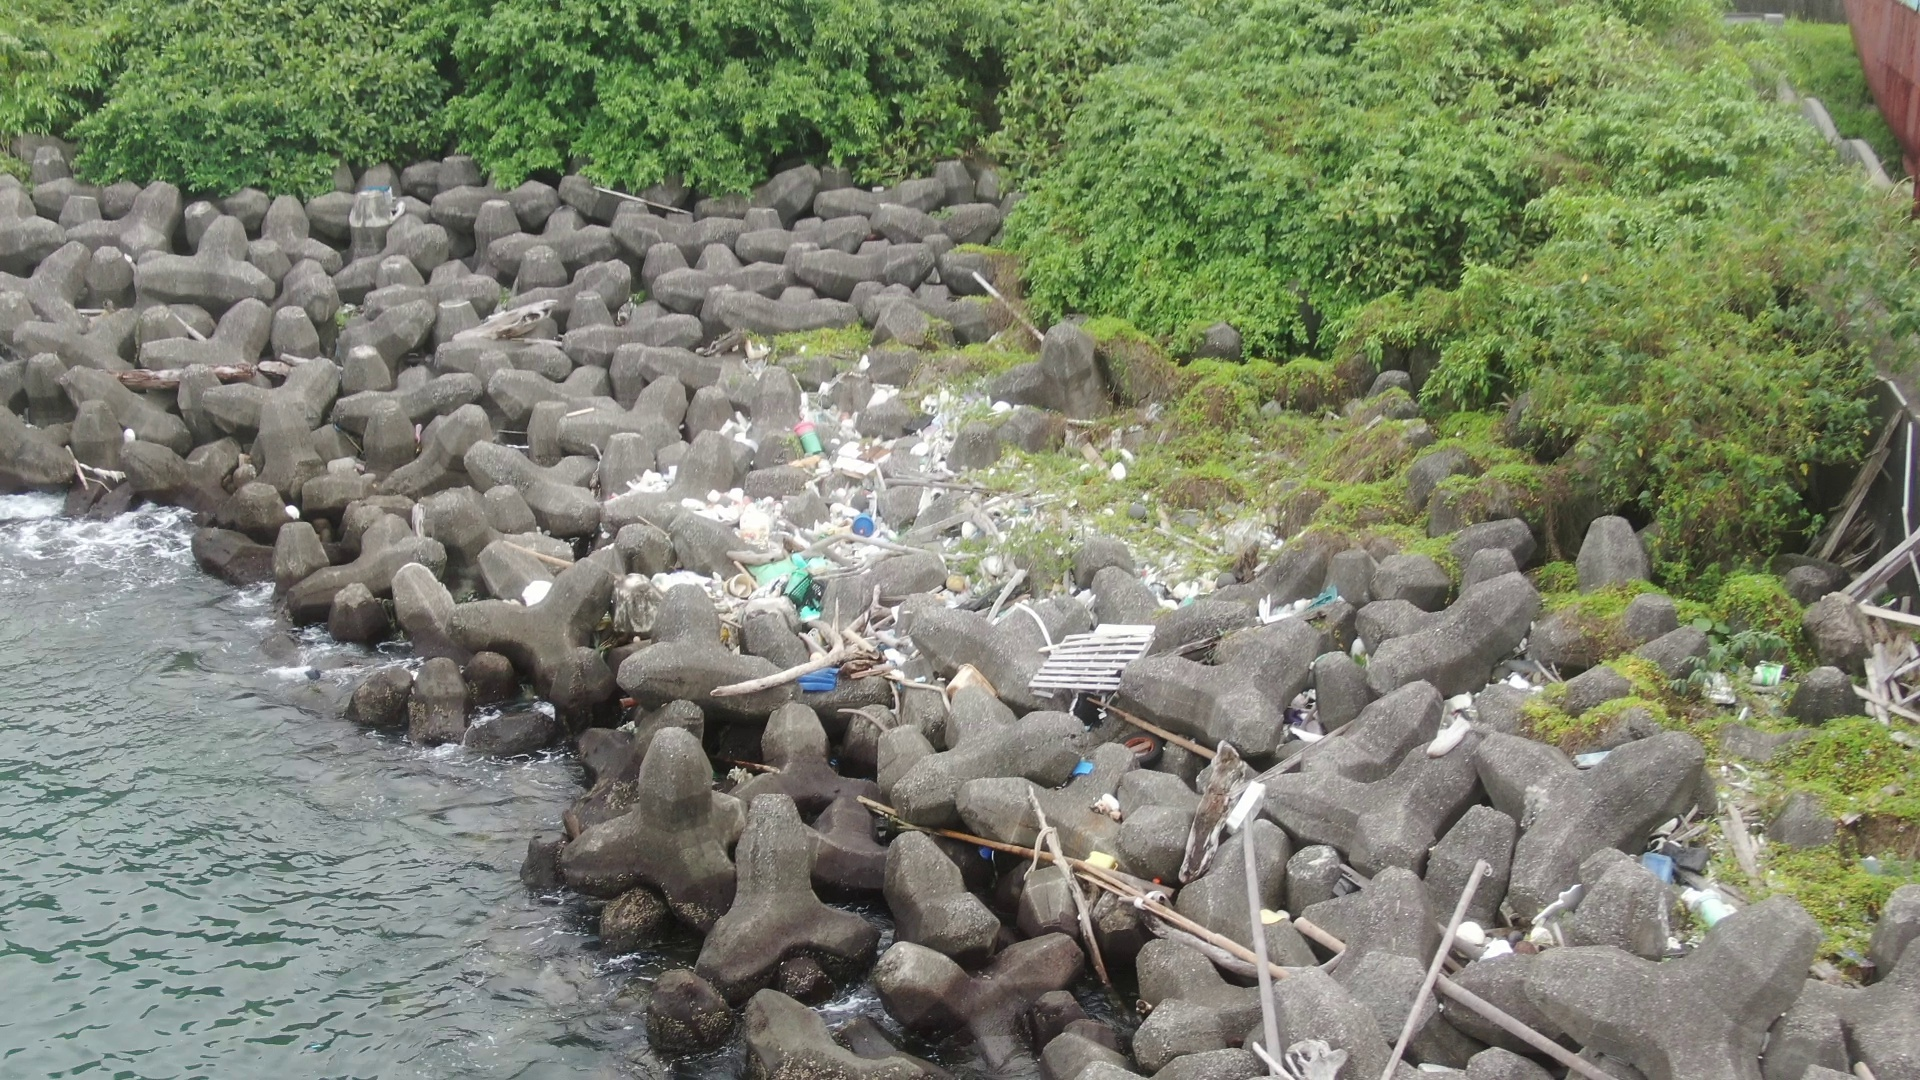garbage: (615, 365, 1162, 704), (857, 781, 1353, 971), (1441, 902, 1605, 978), (1639, 804, 1730, 938), (1211, 1013, 1369, 1080), (1062, 708, 1189, 786), (1689, 645, 1803, 715), (1420, 680, 1482, 764), (1282, 680, 1345, 756), (1250, 578, 1350, 622)
